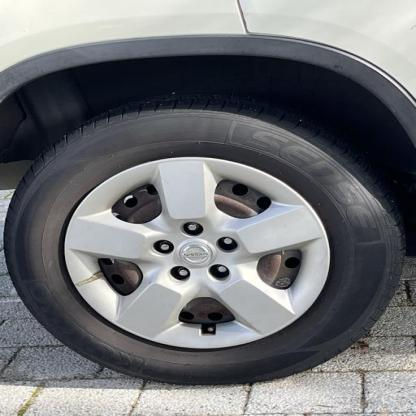Tire: (0, 92, 407, 384)
